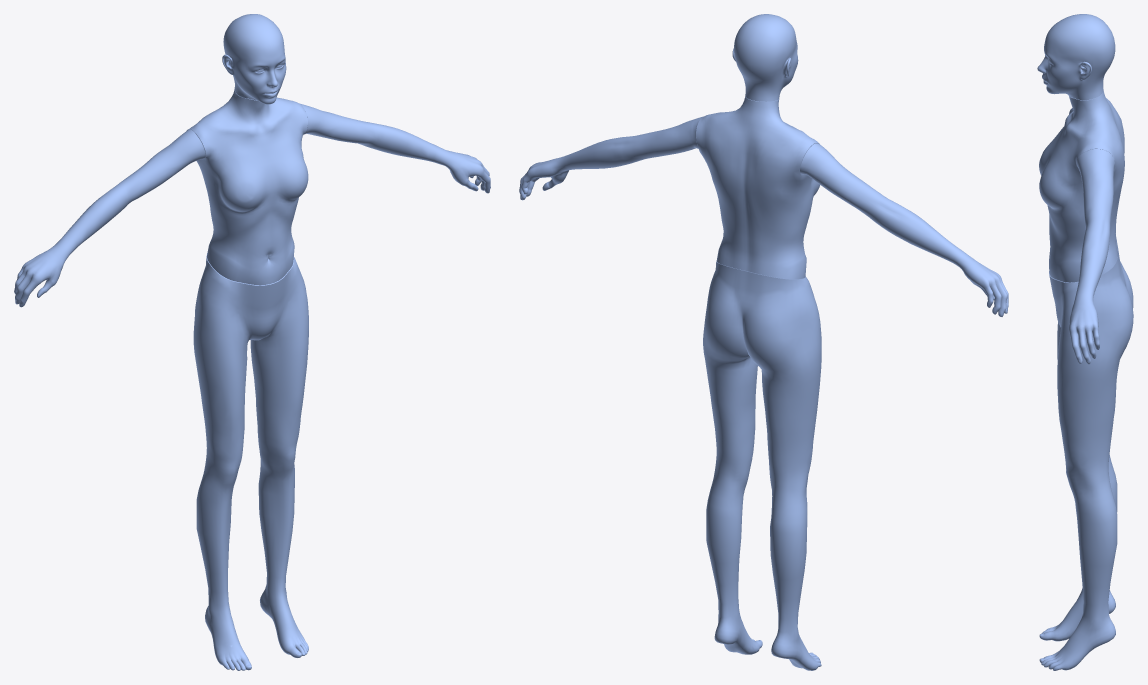
The model's file is Mannequins_female_TPose_NoRigF.fbx.
The picture shows the model from 3 angles, left to right: view 1: azimuth 30°, elevation 25°; view 2: azimuth 150°, elevation 25°; view 3: azimuth 270°, elevation 25°; orthographic projection. The views are drawn at different scales.
Visible parts, largest first — view 1: Mannequins_female_legs, Mannequins_female_body, Mannequins_female_hand_right, Mannequins_female_hand_left, Mannequins_female_head; view 2: Mannequins_female_legs, Mannequins_female_body, Mannequins_female_hand_right, Mannequins_female_hand_left, Mannequins_female_head; view 3: Mannequins_female_legs, Mannequins_female_body, Mannequins_female_hand_left, Mannequins_female_head.
Boxes of the visible parts, left/top/right/bottom form: Mannequins_female_legs: left=193, top=253, right=308, bottom=670; Mannequins_female_body: left=189, top=89, right=308, bottom=285; Mannequins_female_hand_right: left=14, top=129, right=205, bottom=307; Mannequins_female_hand_left: left=300, top=103, right=490, bottom=193; Mannequins_female_head: left=222, top=14, right=286, bottom=104; Mannequins_female_legs: left=703, top=261, right=821, bottom=670; Mannequins_female_body: left=696, top=97, right=819, bottom=279; Mannequins_female_hand_right: left=800, top=143, right=1008, bottom=316; Mannequins_female_hand_left: left=519, top=116, right=702, bottom=200; Mannequins_female_head: left=732, top=14, right=798, bottom=101; Mannequins_female_legs: left=1039, top=246, right=1133, bottom=670; Mannequins_female_body: left=1039, top=91, right=1124, bottom=282; Mannequins_female_hand_left: left=1069, top=149, right=1114, bottom=364; Mannequins_female_head: left=1037, top=14, right=1115, bottom=100.
Size of the model in its own units: 340 by 435 by 59.67.
